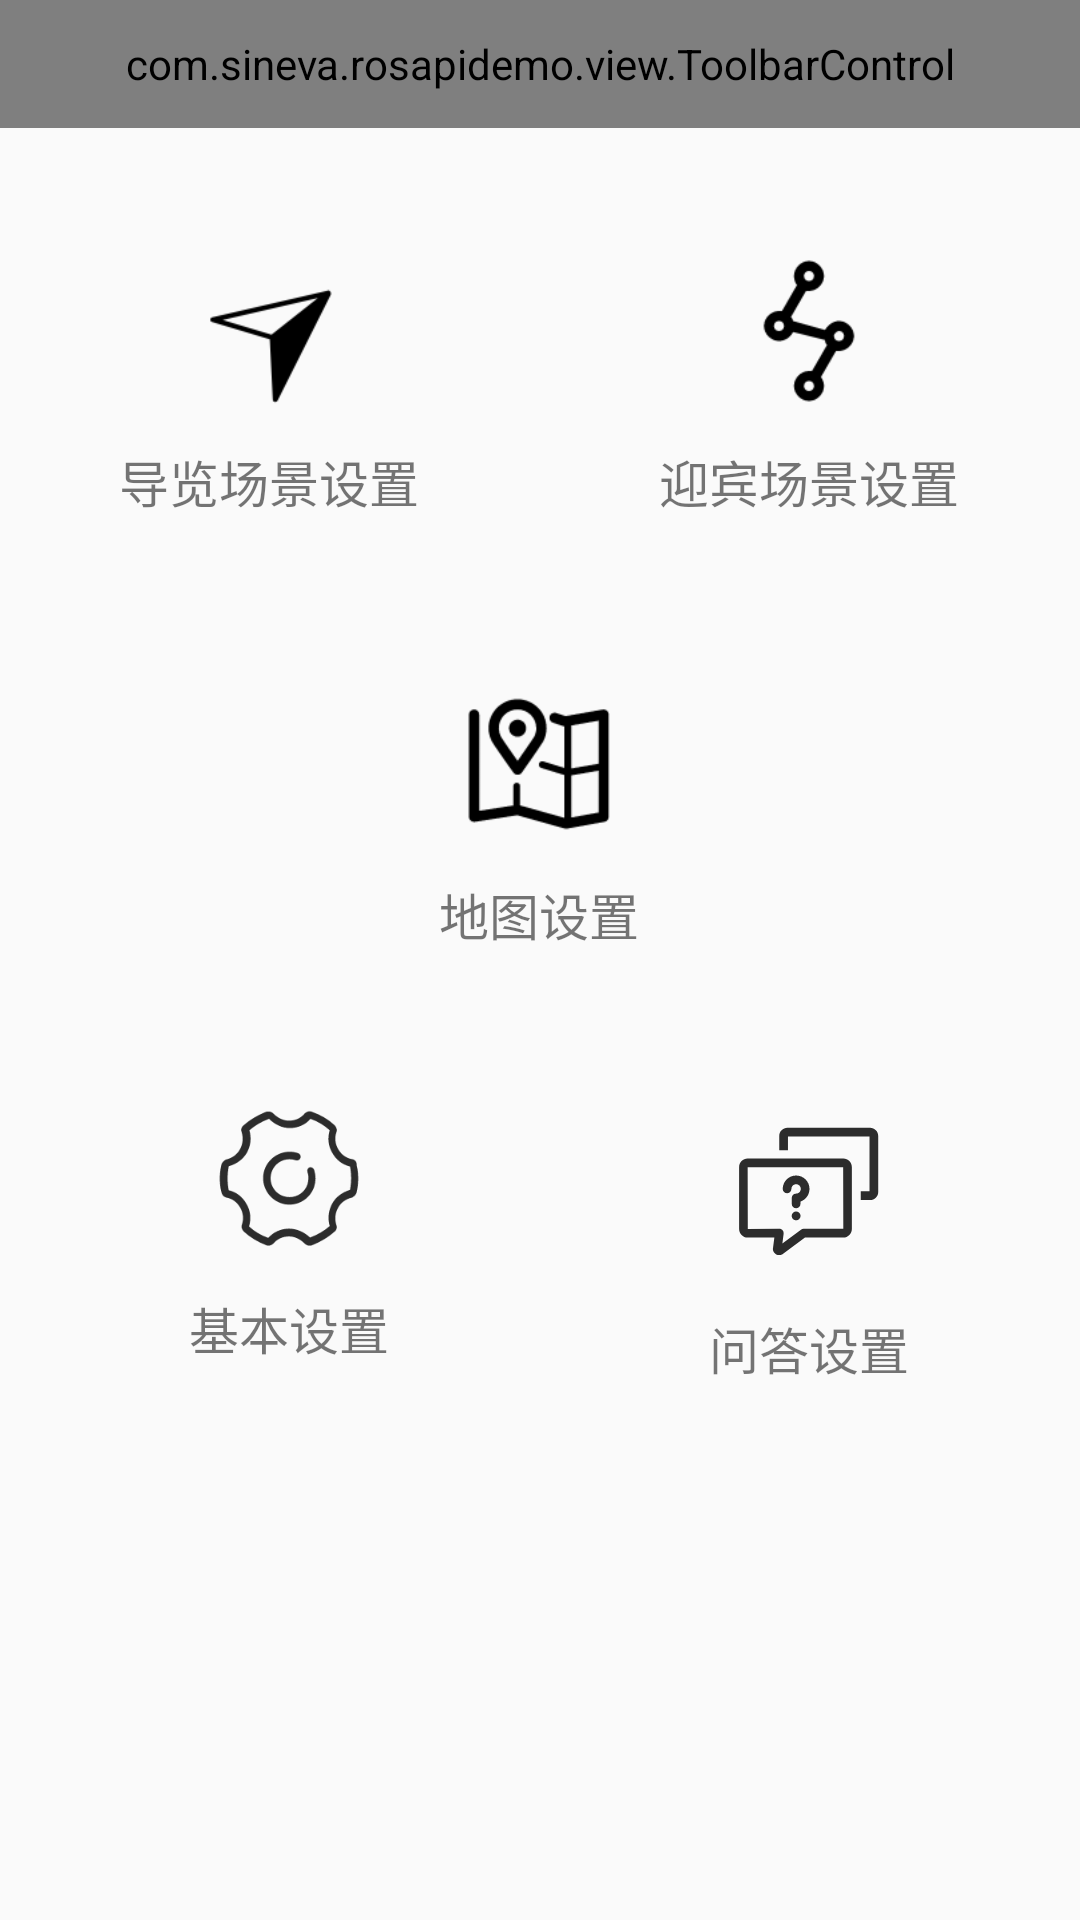

Where icons sit on this 1080 × 1920 app screen, as (x1, y1, x2, y2):
basic setting: (219, 1111, 359, 1246)
guide: (210, 289, 332, 403)
map: (468, 698, 610, 830)
question setting: (739, 1127, 879, 1255)
